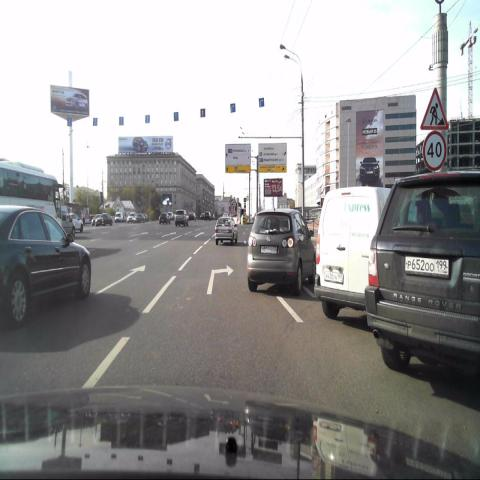1_25: (418, 84, 451, 131)
3_24: (422, 130, 447, 173)
